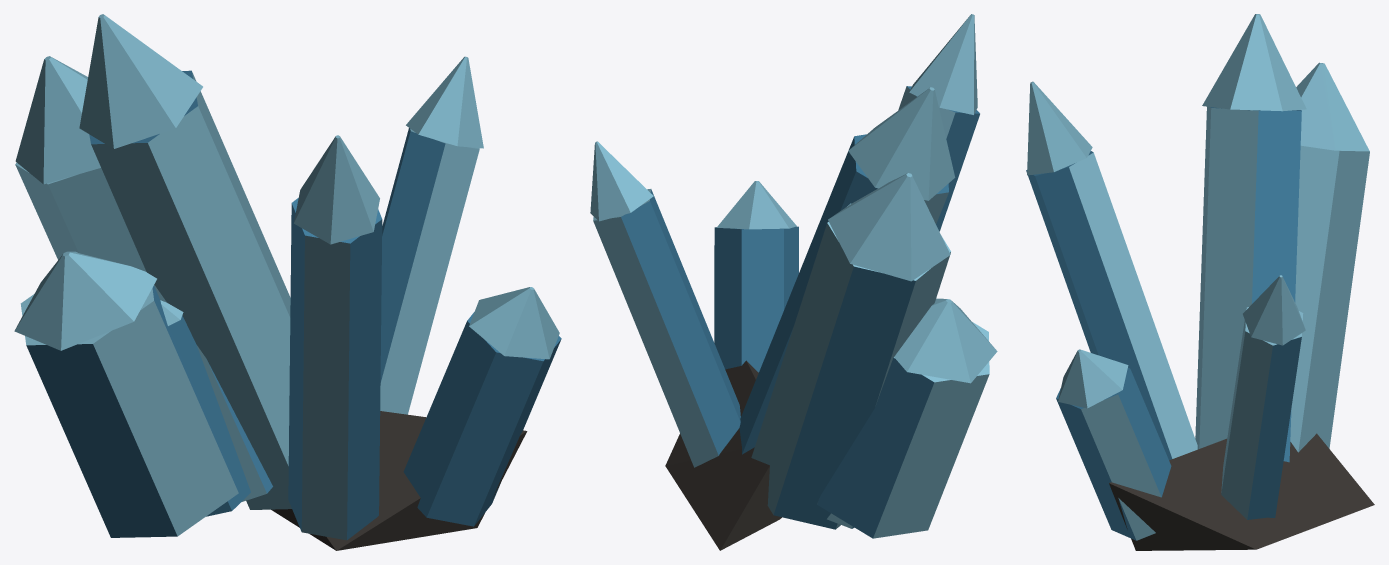
File: crystals.glb
The picture shows the model from 3 angles, left to right: view 1: azimuth 30°, elevation 25°; view 2: azimuth 150°, elevation 25°; view 3: azimuth 270°, elevation 25°; orthographic projection. The views are drawn at different scales.
Visible parts, largest first — view 1: crystals; view 2: crystals; view 3: crystals.
Part boxes in pixels (left/top/right/bottom): crystals: left=14, top=14, right=561, bottom=550; crystals: left=590, top=14, right=997, bottom=550; crystals: left=1026, top=14, right=1374, bottom=550.
Size of the model in its own units: 0.5244 by 0.5819 by 0.4344.
